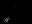person: (2, 18, 9, 23)
